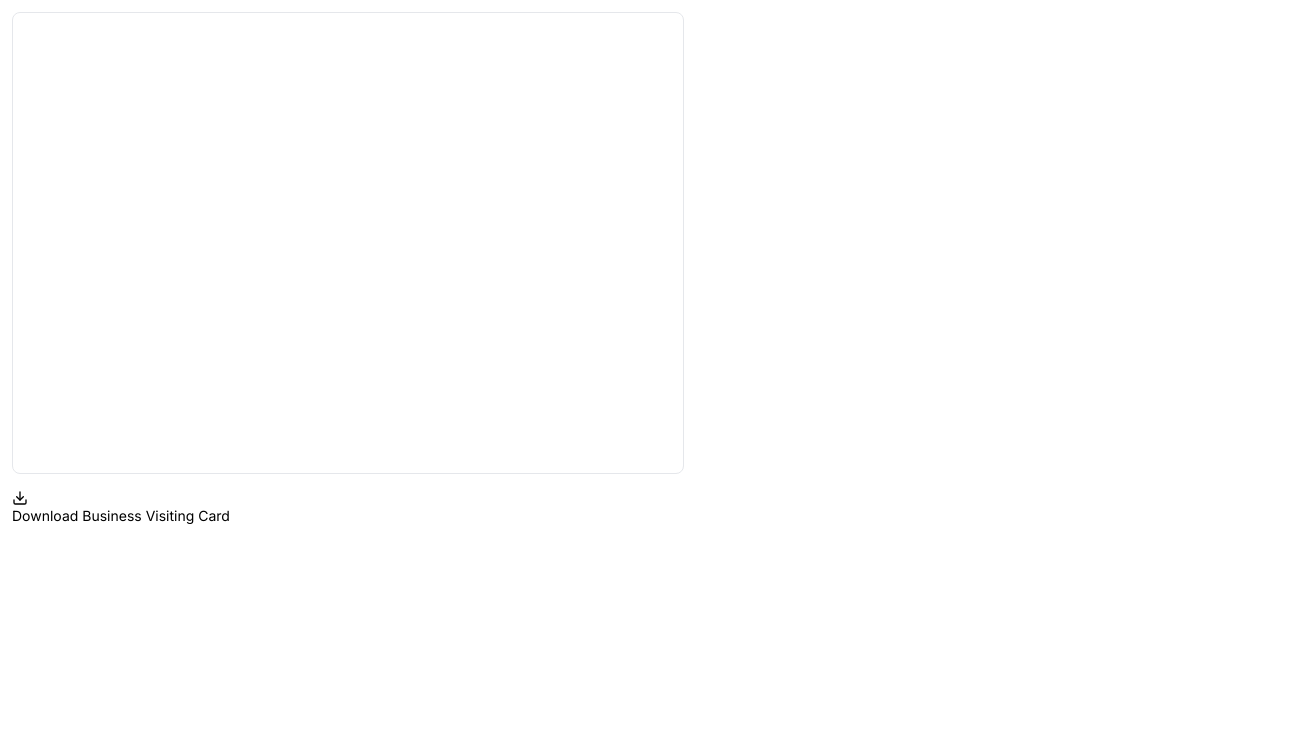
Test: BusinessCardPanel › generates the PNG, downloads it with a meaningful filename and confirms honestly
Click the button "Download Business Visiting Card": coordinates (121, 508) x1=12 y1=490 x2=230 y2=526
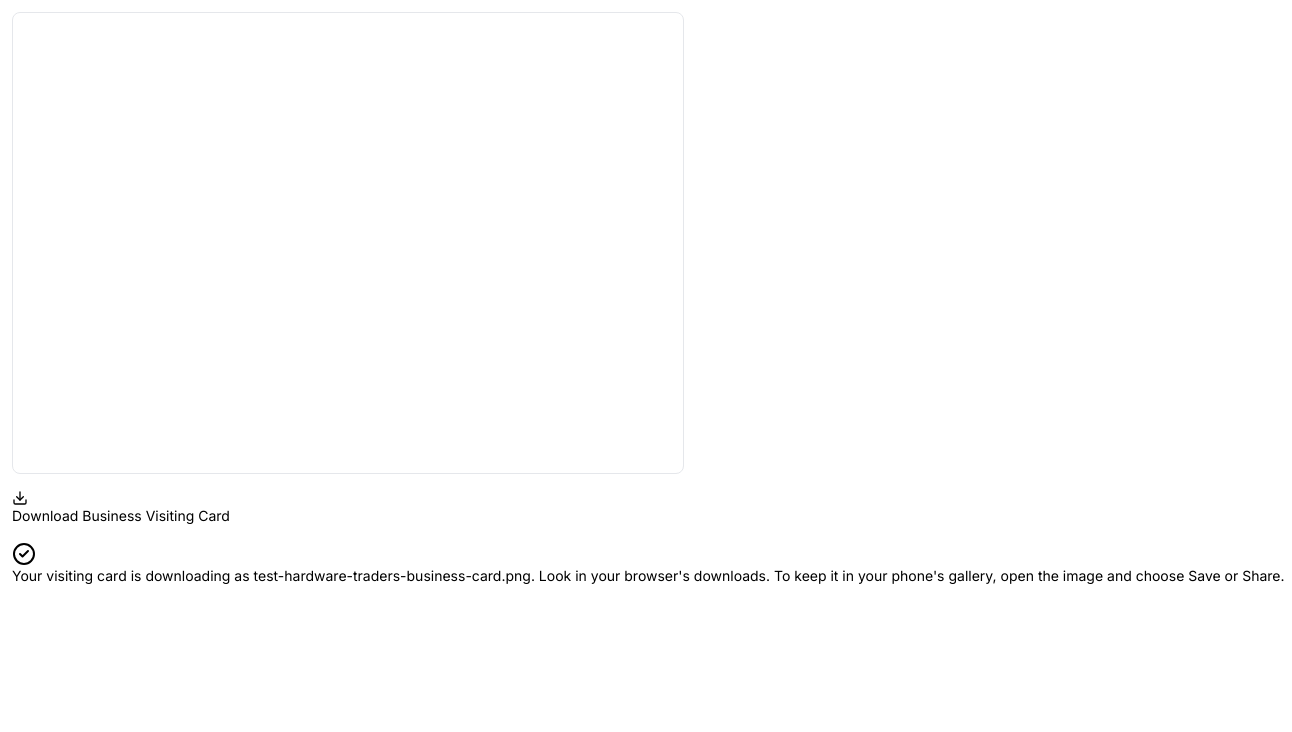
Expected: the text "downloading as test-hardware-traders-business-card.png" shows "open the image and choose Save or Share", x1=12 y1=567 x2=1284 y2=584
